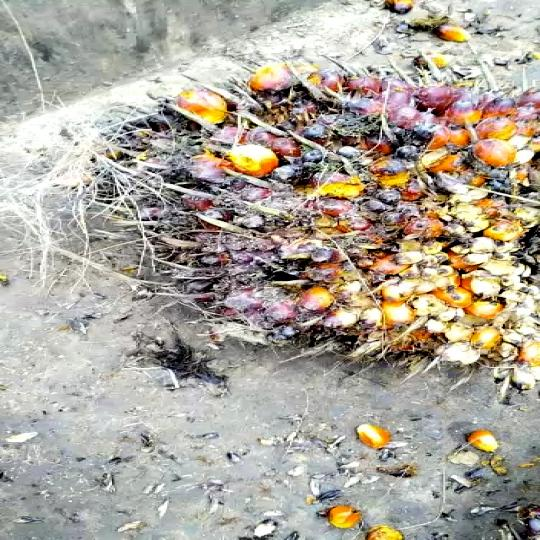masak: (53, 56, 540, 388)
